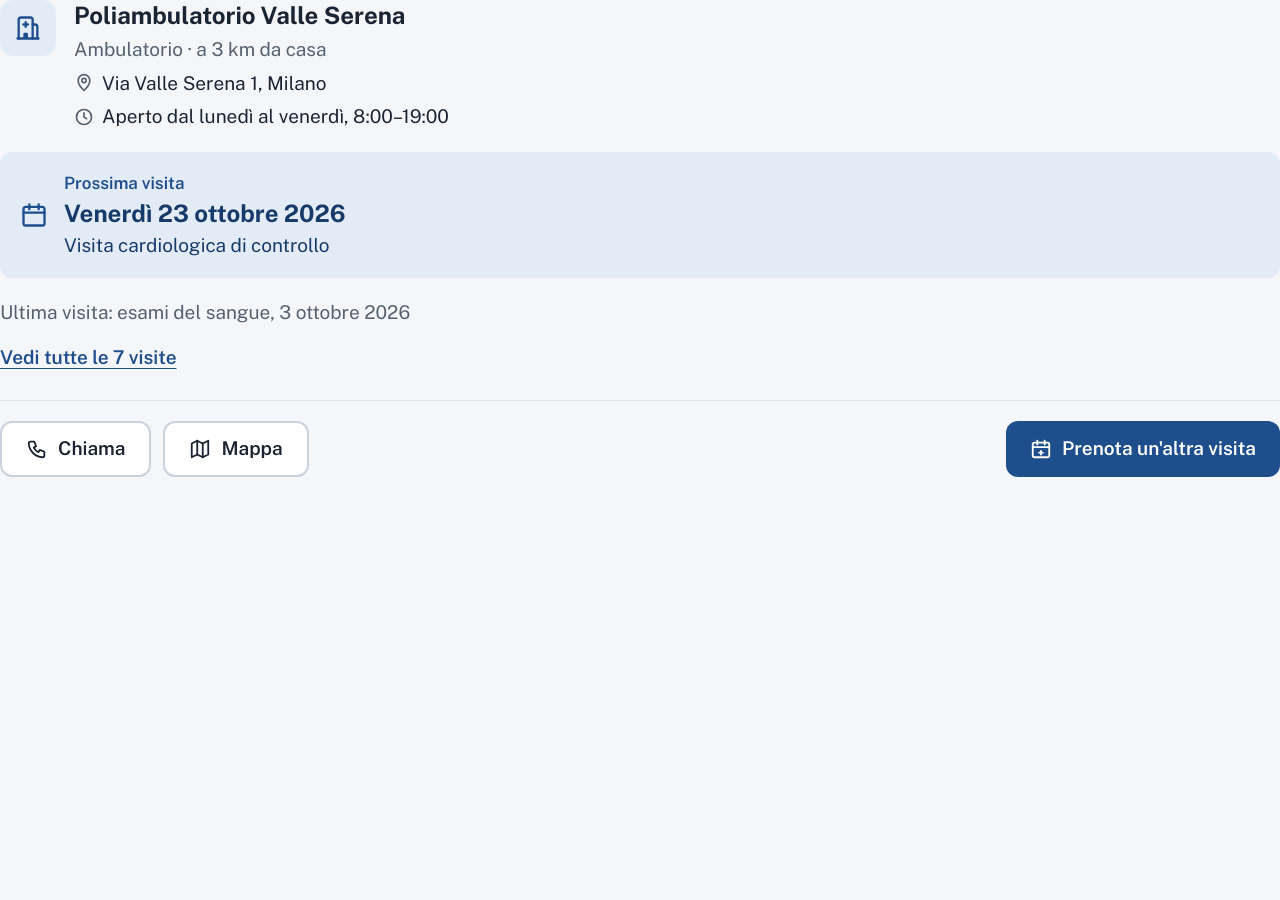
SchedaStudio › «Mappa» apre la mappa dello studio nel portale; «Prenota un’altra visita» porta a /prenota
This screenshot has width=1280, height=900.
Click the button "Mappa": coordinates (236, 449) [163,421,309,477]
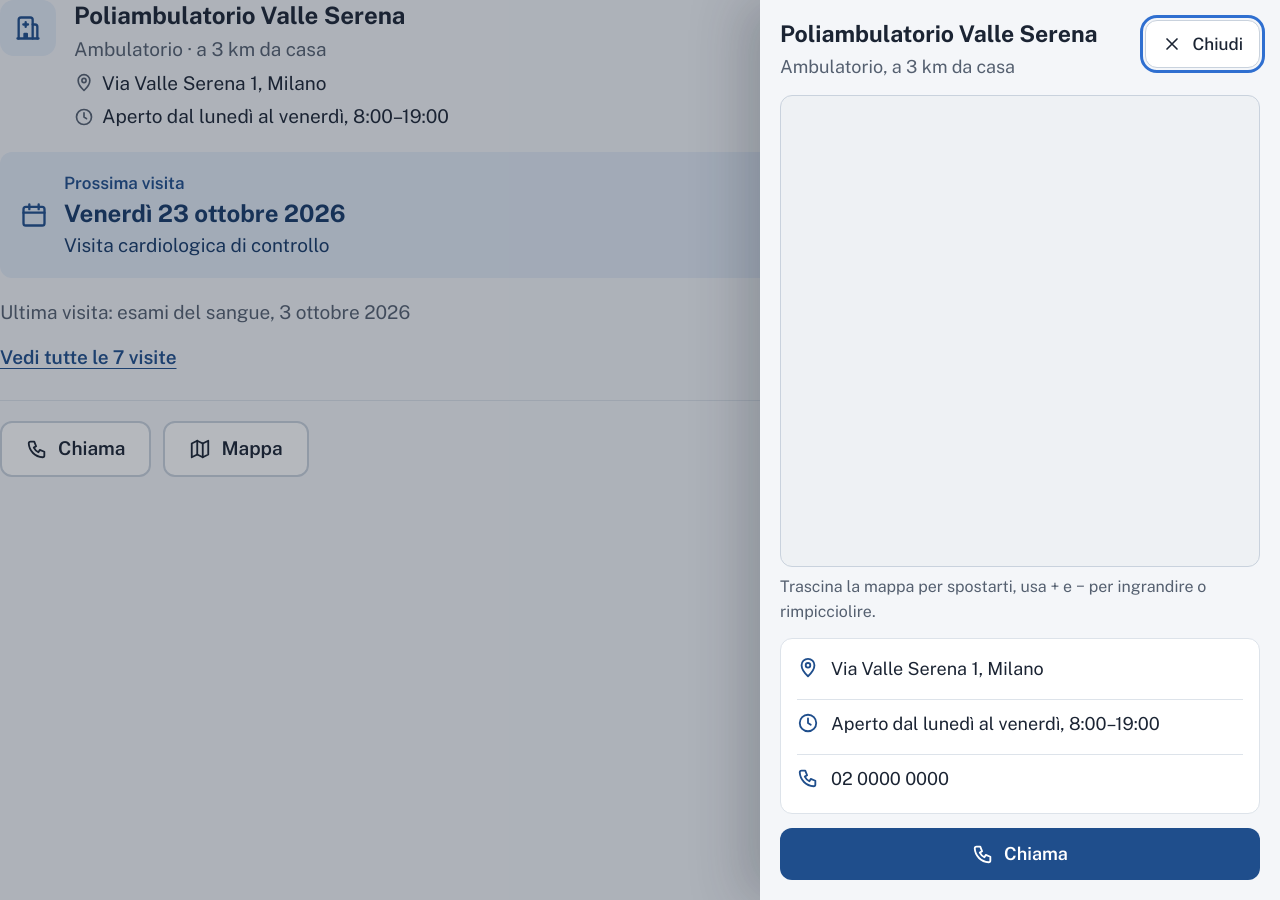
expect the dialog "Poliambulatorio Valle Serena" is shown: met, box [760,0,1279,899]
Click the button "Chiudi": coordinates (1203, 44) [1146,20,1260,68]
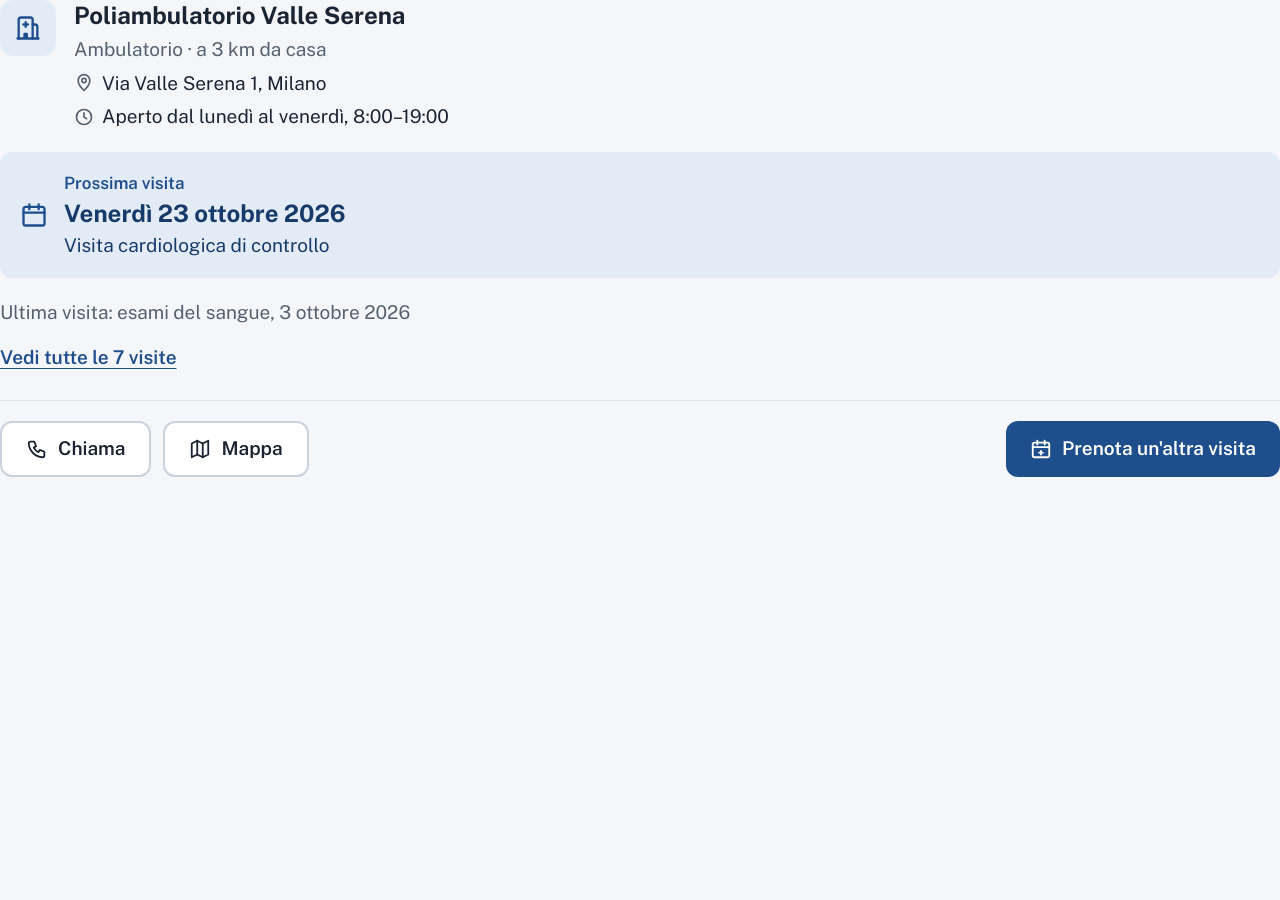
expect the dialog is gone: met
